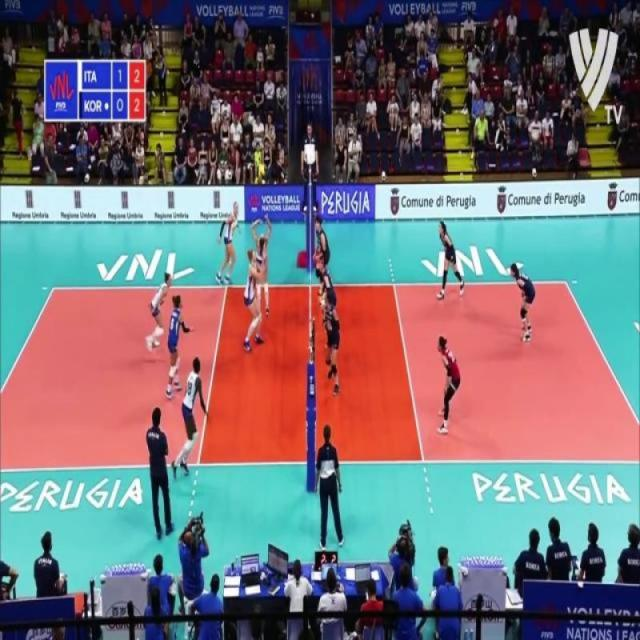volleyball: (258, 161, 266, 178)
